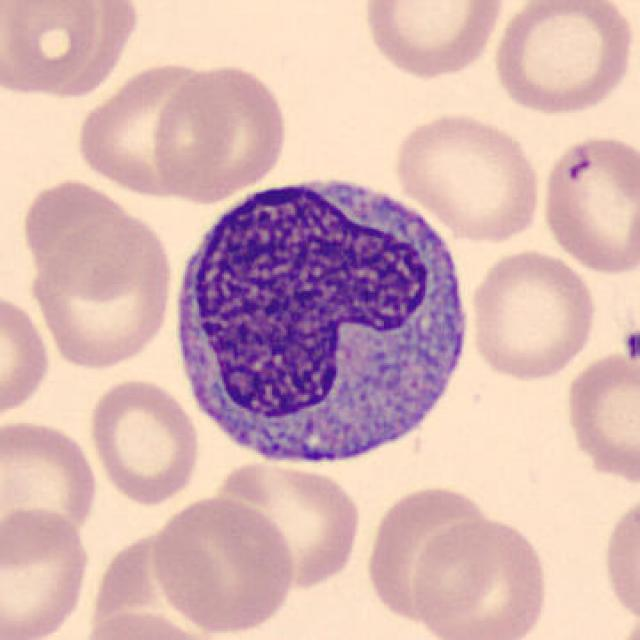Monocyte: (162, 159, 484, 481)
Platelets: (620, 326, 640, 369)
RBC: (25, 208, 178, 372), (73, 55, 229, 201), (206, 455, 364, 592), (147, 492, 297, 636), (389, 108, 544, 244), (149, 58, 290, 205), (361, 479, 498, 626), (466, 246, 599, 382), (409, 515, 553, 640), (487, 0, 637, 118), (87, 530, 233, 640), (85, 376, 203, 508), (21, 178, 140, 304), (537, 129, 638, 277), (0, 416, 101, 552), (0, 504, 94, 640), (357, 0, 507, 81), (18, 0, 141, 95), (560, 347, 638, 487), (0, 0, 108, 100), (0, 289, 53, 423), (599, 488, 638, 632), (74, 608, 226, 640)
